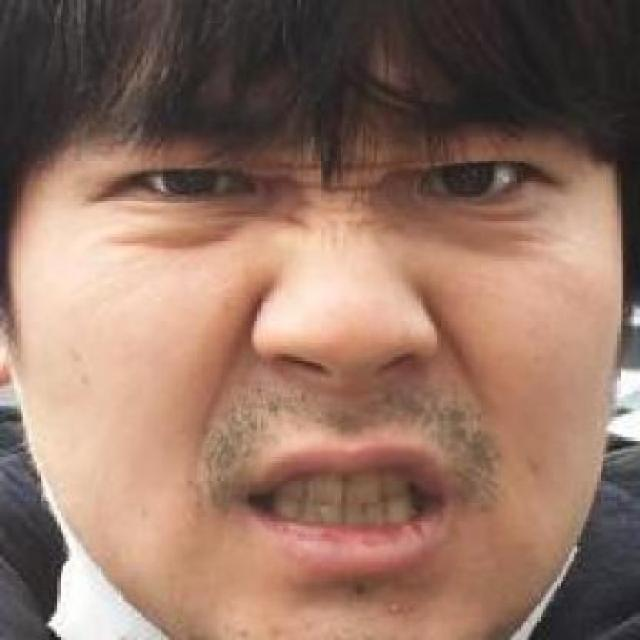angry: (71, 96, 586, 578)
